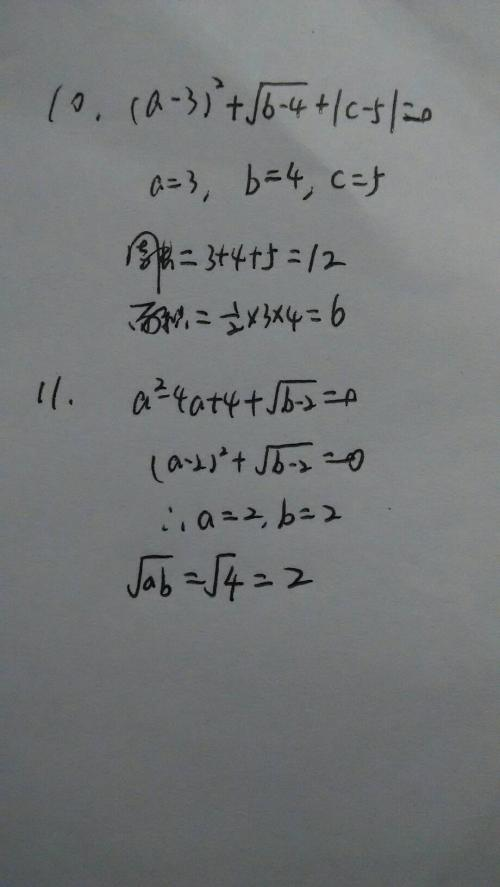sqrt: (243, 75, 310, 127), (120, 549, 176, 604), (268, 371, 321, 426), (259, 439, 320, 482), (204, 550, 242, 608)
square: (205, 74, 227, 95), (149, 375, 166, 394), (215, 445, 231, 456)
